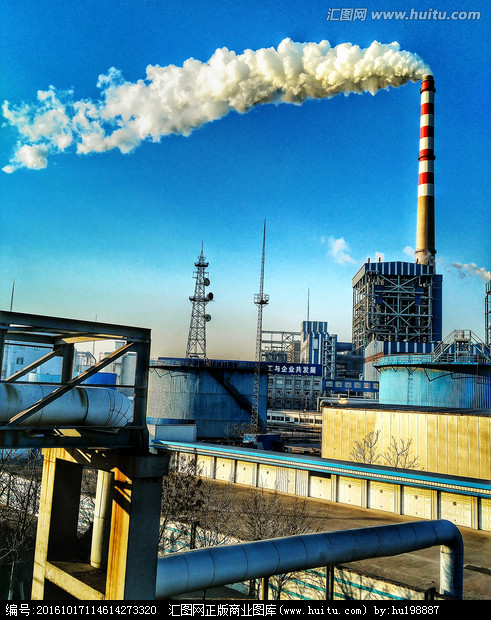dust: (68, 36, 444, 125)
